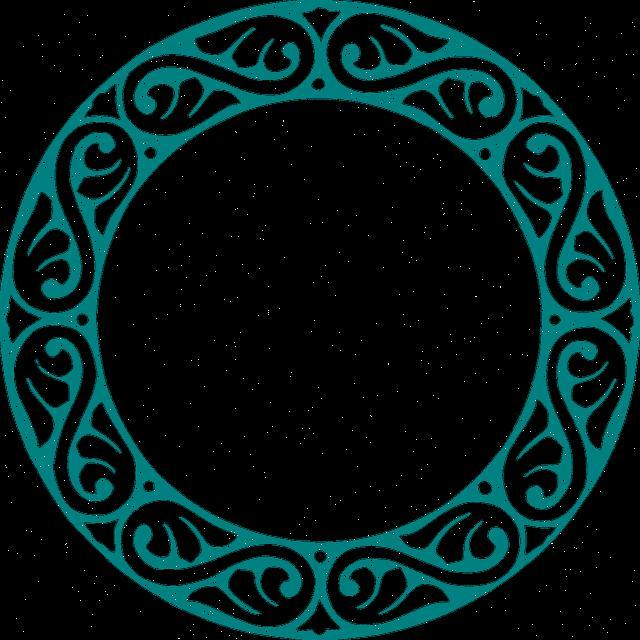Circle: (0, 0, 640, 640), (476, 478, 494, 496), (76, 312, 91, 329), (140, 480, 158, 494), (311, 77, 326, 91), (478, 147, 492, 162), (548, 313, 562, 327), (314, 550, 329, 563), (144, 147, 158, 160)
